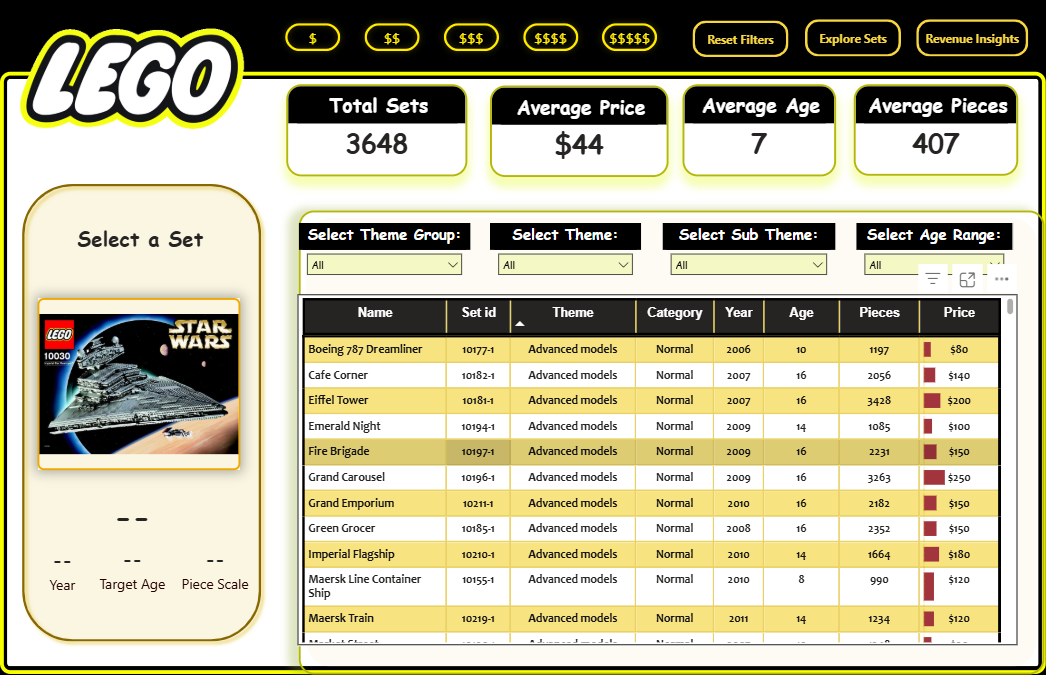

This screenshot's page, from the dashboard's own definition file:
{"tool":"powerbi","page":{"name":"dash","canvas":[1308,846],"ordinal":0},"visuals":[{"type":"shape","title":"gsddjk","box":[0,92.5,1307.5,752.5],"z":0},{"type":"shape","box":[354.7,245.3,931.2,579.7],"z":2000},{"type":"shape","box":[18.3,223.3,316.7,590],"z":3000},{"type":"slicer","title":"Select Sub Theme:","fields":{"Values":["lego_sets (2).subtheme"]},"box":[828.6,281.4,215.7,88.6],"z":4000},{"type":"card","title":"Total Sets","fields":{"Values":["lego_sets (2).total sets"]},"box":[358.3,108.3,226.7,115],"z":5000},{"type":"card","title":"Average Age","fields":{"Values":["lego_sets (2).average age"]},"box":[853.3,108.3,191.7,115],"z":6000},{"type":"card","title":"Average Price","fields":{"Values":["lego_sets (2).avg price"]},"box":[612.9,110,222.9,114.3],"z":7000},{"type":"advancedSlicerVisual","fields":{"Values":["lego_sets (2).price range"]},"box":[340,15.7,498.6,67.1],"z":8000},{"type":"image","box":[23.3,0,283.3,201.7],"z":9000},{"type":"slicer","title":"Select Theme:","fields":{"Values":["lego_sets (2).theme"]},"box":[612.9,281.4,188.6,88.6],"z":10000},{"type":"slicer","title":"Select Theme Group:","fields":{"Values":["lego_sets (2).themeGroup"]},"box":[372.9,281.4,214.3,88.6],"z":11000},{"type":"slicer","title":"Select Age Range:","fields":{"Values":["lego_sets (2).agerange"]},"box":[1070,281.7,195,88.3],"z":12000},{"type":"tableEx","fields":{"Values":["lego_sets (2).name","lego_sets (2).set_id","lego_sets (2).theme","lego_sets (2).category","lego_sets (2).year","lego_sets (2).average age","lego_sets (2).avg pieces","lego_sets (2).avg price"]},"box":[371.9,370.3,900,426.6],"z":13000},{"type":"card","fields":{"Values":["lego_sets (2).select set"]},"box":[30,245,291.7,113.3],"z":14000},{"type":"image","box":[46.7,375,253.3,215],"z":15000},{"type":"card","fields":{"Values":["lego_sets (2).yearlabel"]},"box":[30,680,96.7,71.7],"z":16000},{"type":"card","fields":{"Values":["lego_sets (2).piecescale"]},"box":[215,678.3,106.7,71.7],"z":17000},{"type":"card","fields":{"Values":["lego_sets (2).targetage"]},"box":[115,678.3,100,71.7],"z":18000},{"type":"card","fields":{"Values":["lego_sets (2).pricelable"]},"box":[43.3,603.3,243.3,88.3],"z":19000},{"type":"card","title":"Average Pieces","fields":{"Values":["lego_sets (2).Avg pieces"]},"box":[1067.1,108.6,205.7,114.3],"z":20000},{"type":"actionButton","box":[865.7,28.6,120,45.7],"z":21000},{"type":"actionButton","box":[1006.7,26.7,120,46.7],"z":22000},{"type":"actionButton","box":[1145,26.7,140,46.7],"z":23000}]}

Visuals, with their boxes in screenshot pixels (x1, y1, x2, y2), scaled from the page's 1308x846 canvas onto the 1046x675 screenshot:
"gsddjk" shape: <region>0, 74, 1045, 674</region>
shape: <region>284, 196, 1028, 658</region>
shape: <region>15, 178, 268, 649</region>
"Select Sub Theme:" slicer: <region>663, 225, 835, 295</region>
"Total Sets" card: <region>287, 86, 468, 178</region>
"Average Age" card: <region>682, 86, 836, 178</region>
"Average Price" card: <region>490, 88, 668, 179</region>
advancedSlicerVisual - lego_sets (2).price range: <region>272, 13, 671, 66</region>
image: <region>19, 0, 245, 161</region>
"Select Theme:" slicer: <region>490, 225, 641, 295</region>
"Select Theme Group:" slicer: <region>298, 225, 470, 295</region>
"Select Age Range:" slicer: <region>856, 225, 1012, 295</region>
tableEx - lego_sets (2).name x lego_sets (2).set_id: <region>297, 295, 1017, 636</region>
card - lego_sets (2).select set: <region>24, 195, 257, 286</region>
image: <region>37, 299, 240, 471</region>
card - lego_sets (2).yearlabel: <region>24, 543, 101, 600</region>
card - lego_sets (2).piecescale: <region>172, 541, 257, 598</region>
card - lego_sets (2).targetage: <region>92, 541, 172, 598</region>
card - lego_sets (2).pricelable: <region>35, 481, 229, 552</region>
"Average Pieces" card: <region>853, 87, 1018, 178</region>
actionButton: <region>692, 23, 788, 59</region>
actionButton: <region>805, 21, 901, 59</region>
actionButton: <region>916, 21, 1028, 59</region>
